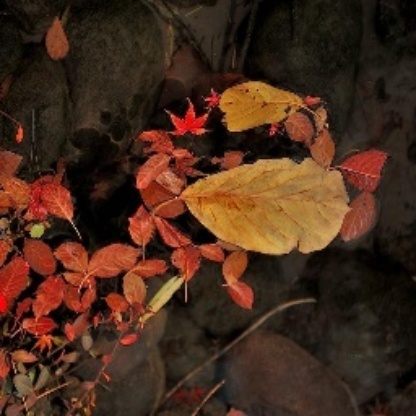leaf: (179, 160, 346, 255), (216, 78, 323, 131)
